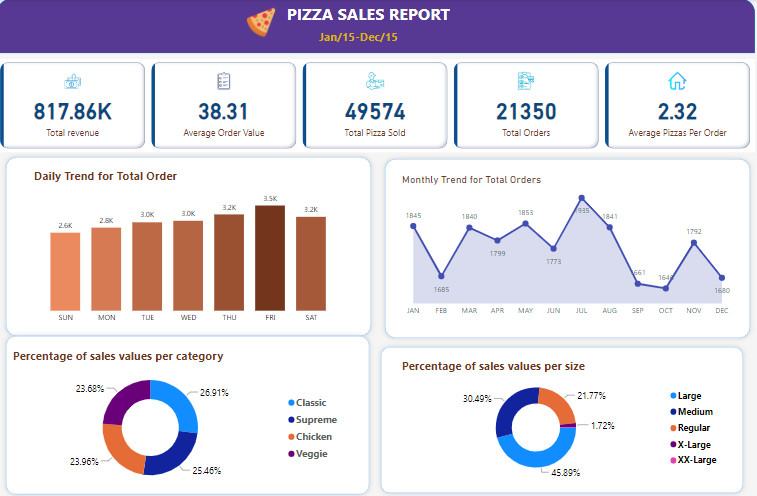

The dashboard page shown, as its layout file describes it:
{"tool":"powerbi","page":{"name":"Page 1","canvas":[1500,820],"ordinal":0},"visuals":[{"type":"cardVisual","fields":{"Data":["schema1 pizza_sales.Total revenue","schema1 pizza_sales.Average Order Value","schema1 pizza_sales.Total Pizza Sold","schema1 pizza_sales.Total Orders","schema1 pizza_sales.Average Pizzas Per Order"]},"box":[146,98.4,1243.1,152.5],"z":0},{"type":"shape","box":[146,0,1243.1,88.6],"z":1000},{"type":"textbox","box":[592,0,326.4,65.6],"z":2000},{"type":"textbox","box":[669.1,44.3,172.2,54.1],"z":3000},{"type":"image","box":[549.4,4.9,59,67.2],"z":4000},{"type":"shape","box":[152.5,250.9,615,310],"z":5000},{"type":"columnChart","title":"Daily Trend for Total Order","fields":{"Y":["schema1 pizza_sales.Total Orders"],"Category":["schema1 pizza_sales.Order Day"]},"box":[201.7,277.2,516.6,264],"z":6000},{"type":"shape","box":[774.1,254.2,615,310],"z":7000},{"type":"areaChart","title":"Monthly Trend for Total Orders","fields":{"Category":["schema1 pizza_sales.Order Month"],"Y":["schema1 pizza_sales.Total Orders"]},"box":[805.2,285.4,552.7,242.7],"z":8000},{"type":"shape","box":[152.5,544.5,611.7,275.5],"z":9000},{"type":"shape","box":[767.5,562.5,610.1,255.8],"z":10000},{"type":"donutChart","title":"Percentage of sales values per category","fields":{"Y":["schema1 pizza_sales.Total revenue"],"Category":["schema1 pizza_sales.pizza_category"]},"box":[167.3,572.4,551,236.2],"z":12000},{"type":"donutChart","title":"Percentage of sales values per size","fields":{"Y":["schema1 pizza_sales.Total revenue"],"Category":["schema1 pizza_sales.pizza_size"]},"box":[805.2,588.8,534.6,203.4],"z":13000}]}

Visuals, with their boxes on the page's 1500x820 design canvas (x1, y1, x2, y2). These are canvas units, not pixel positions in the 757x496 screenshot, which may show the page scaled, cropped or inside an application window:
cardVisual - schema1 pizza_sales.Total revenue x schema1 pizza_sales.Average Order Value: box(146, 98, 1389, 251)
shape: box(146, 0, 1389, 89)
textbox: box(592, 0, 918, 66)
textbox: box(669, 44, 841, 98)
image: box(549, 5, 608, 72)
shape: box(152, 251, 768, 561)
"Daily Trend for Total Order" columnChart: box(202, 277, 718, 541)
shape: box(774, 254, 1389, 564)
"Monthly Trend for Total Orders" areaChart: box(805, 285, 1358, 528)
shape: box(152, 544, 764, 820)
shape: box(768, 562, 1378, 818)
"Percentage of sales values per category" donutChart: box(167, 572, 718, 809)
"Percentage of sales values per size" donutChart: box(805, 589, 1340, 792)
